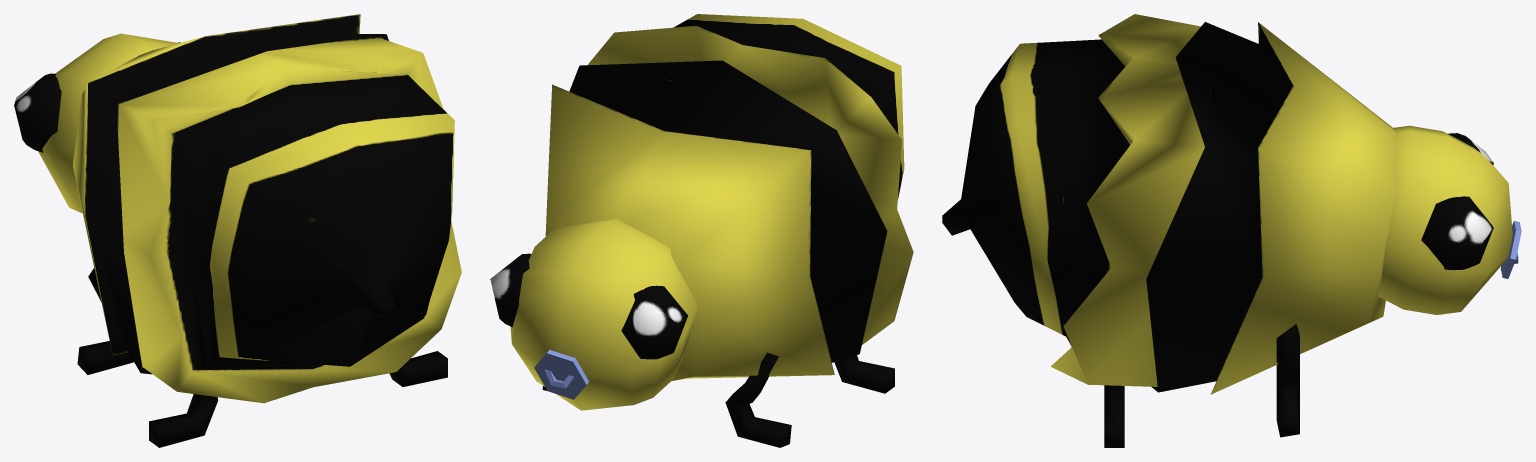
Rendered from baby-bee.glb.
3 views of the same model, side by side, from view 1: azimuth 30°, elevation 25°; view 2: azimuth 150°, elevation 25°; view 3: azimuth 270°, elevation 25° (orthographic). The views are drawn at different scales.
Visible parts, largest first — view 1: Low Poly Baby Bee; view 2: Low Poly Baby Bee; view 3: Low Poly Baby Bee.
Boxes of the visible parts, x1,y1,x2,y2 form: Low Poly Baby Bee: [14, 14, 461, 447]; Low Poly Baby Bee: [490, 14, 913, 447]; Low Poly Baby Bee: [942, 14, 1521, 447].
Bounding box in the file's own units: 0.3313 × 0.3419 × 0.5555.
Materials: 2 (1 with a texture image).
